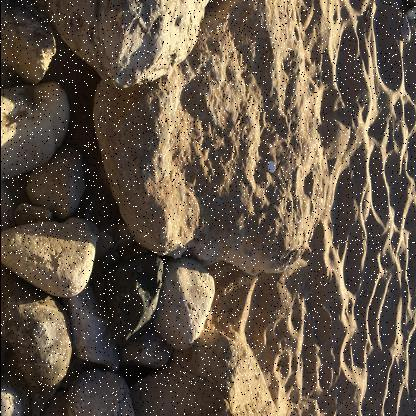plastic: (268, 159, 276, 171)
